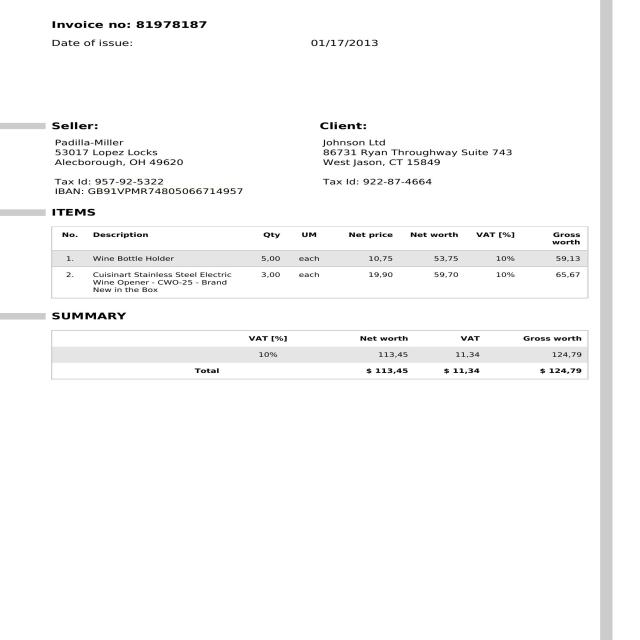customer_address: (316, 146, 516, 168)
customer_name: (318, 136, 400, 148)
invoice_date: (305, 36, 382, 50)
invoice_number: (135, 15, 213, 32)
invoice_subtotal: (348, 364, 417, 378)
invoice_total: (535, 365, 586, 377)
item_description: (85, 252, 238, 296)
item_quantity: (253, 251, 287, 289)
item_total_price: (418, 253, 472, 289)
item_unit_price: (359, 253, 399, 290)
supplier_address: (54, 148, 256, 169)
supplier_name: (54, 136, 132, 148)
tax_amount: (436, 363, 485, 376)
tax_rate: (254, 348, 282, 361)
